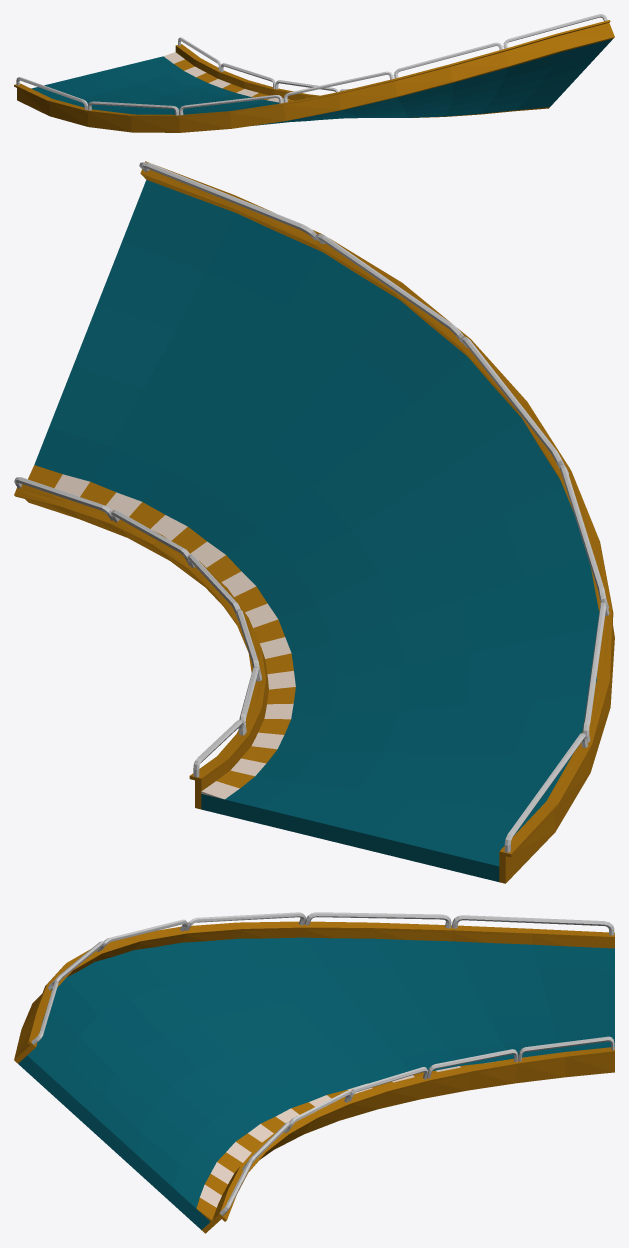
File: curveLeft-90-Banked-45.FBX
The picture shows the model from 3 angles, top to bottom: view 1: azimuth 30°, elevation 25°; view 2: azimuth 150°, elevation 25°; view 3: azimuth 270°, elevation 25°; orthographic projection. The views are drawn at different scales.
Visible parts, largest first — view 1: curveLeft-90-banked-45, wall_r, wall_l, curbs_l; view 2: curveLeft-90-banked-45, wall_r, curbs_l, wall_l; view 3: curveLeft-90-banked-45, wall_r, wall_l, curbs_l.
Part boxes in pixels (x1,y1,x2,y2): curveLeft-90-banked-45: [31, 39, 612, 125]; wall_r: [14, 14, 614, 132]; wall_l: [175, 37, 549, 117]; curbs_l: [163, 52, 294, 102]; curveLeft-90-banked-45: [34, 180, 599, 881]; wall_r: [139, 161, 614, 883]; curbs_l: [28, 465, 295, 799]; wall_l: [14, 477, 268, 809]; curveLeft-90-banked-45: [18, 937, 614, 1229]; wall_r: [14, 912, 614, 1063]; wall_l: [201, 1036, 614, 1233]; curbs_l: [196, 1061, 498, 1221].
Size of what is drawn, in the model's own units: 485 by 167 by 444.
